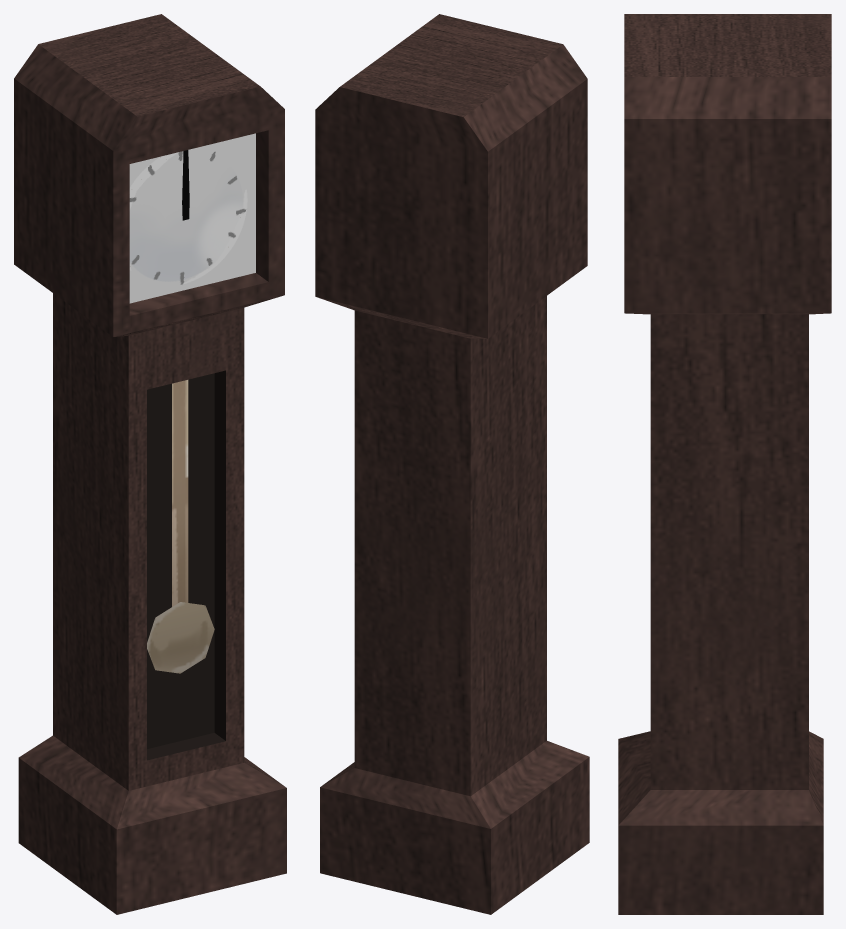
The model's file is grandfather clock.fbx.
3 views of the same model, side by side, from view 1: azimuth 30°, elevation 25°; view 2: azimuth 150°, elevation 25°; view 3: azimuth 270°, elevation 25° (orthographic). The views are drawn at different scales.
Parts seen in each view (by area): view 1: grandfather clock, pendulum; view 2: grandfather clock; view 3: grandfather clock.
Part boxes in pixels (x1,y1,x2,y2): grandfather clock: (14, 14, 286, 914); pendulum: (147, 380, 214, 673); grandfather clock: (315, 14, 589, 914); grandfather clock: (618, 14, 831, 914).
Bounding box in the file's own units: 106 × 466 × 109.
